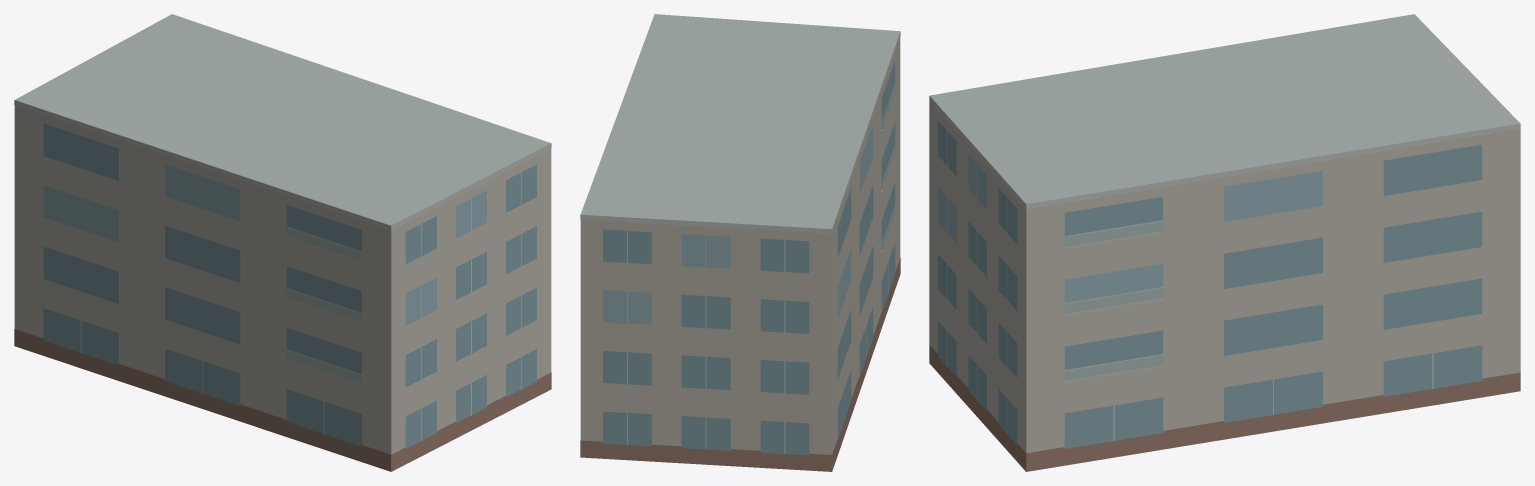
File: survey-upis-32882397.glb
3 views of the same model, side by side, from view 1: azimuth 30°, elevation 25°; view 2: azimuth 150°, elevation 25°; view 3: azimuth 270°, elevation 25° (orthographic). The views are drawn at different scales.
Parts seen in each view (by area): view 1: survey-upis-32882397.tmp; view 2: survey-upis-32882397.tmp; view 3: survey-upis-32882397.tmp.
Part boxes in pixels (left/top/right/bottom): survey-upis-32882397.tmp: left=14, top=14, right=551, bottom=471; survey-upis-32882397.tmp: left=580, top=14, right=900, bottom=471; survey-upis-32882397.tmp: left=929, top=14, right=1520, bottom=471.
Bounding box in the file's own units: 18.6 × 12.2 × 24.43.
